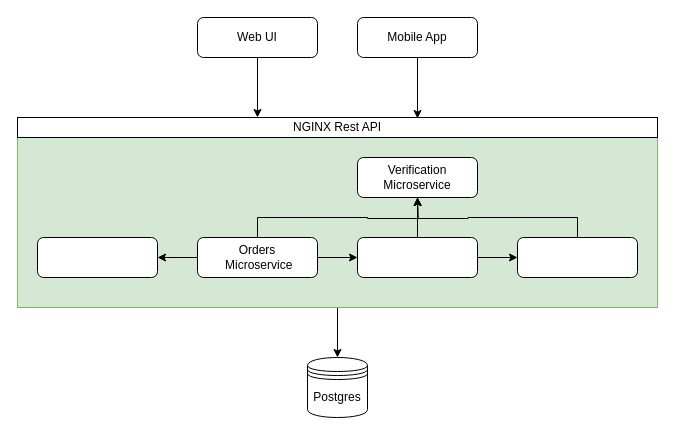
The diagram is 675 pixels wide and 435 high, and some of its shapes have lost their labels. Here are the shapes that lost their labels. From the top down, the box of each, then its label:
(36, 236, 158, 278): Codes Microservice
(356, 236, 478, 278): Products Microservice
(516, 236, 638, 278): Locations Microservice
